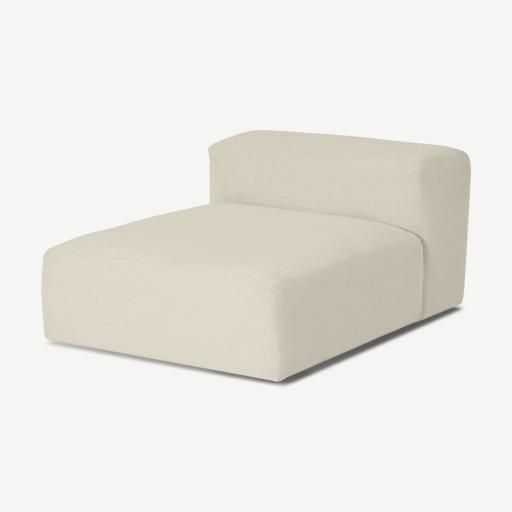back_cushion: (209, 131, 470, 321)
one-seater: (42, 130, 470, 381)
seat_cushion: (43, 204, 422, 379)
